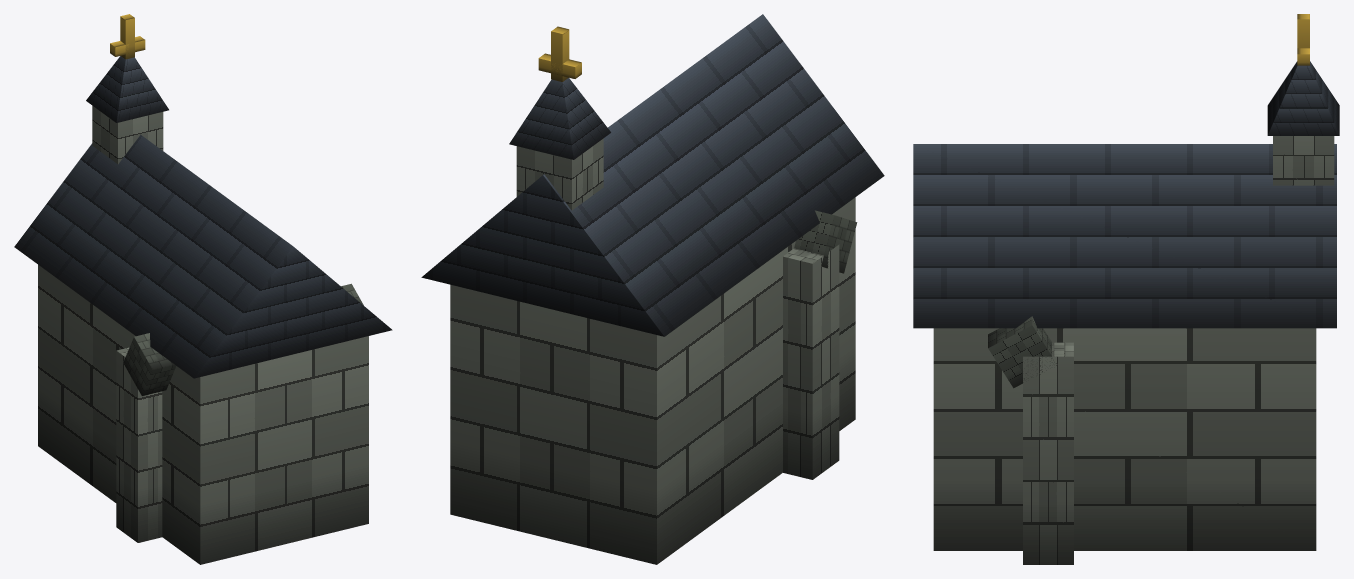
File: chapel_red.gltf
The picture shows the model from 3 angles, left to right: view 1: azimuth 30°, elevation 25°; view 2: azimuth 150°, elevation 25°; view 3: azimuth 270°, elevation 25°; orthographic projection. The views are drawn at different scales.
Visible parts, largest first — view 1: chapel_red; view 2: chapel_red; view 3: chapel_red.
Part boxes in pixels (x1,y1,x2,y2): chapel_red: [14, 14, 392, 564]; chapel_red: [421, 14, 884, 564]; chapel_red: [913, 14, 1339, 564].
Bounding box in the file's own units: 1.16 × 2.1 × 1.67.
1 material, 1 textured.
